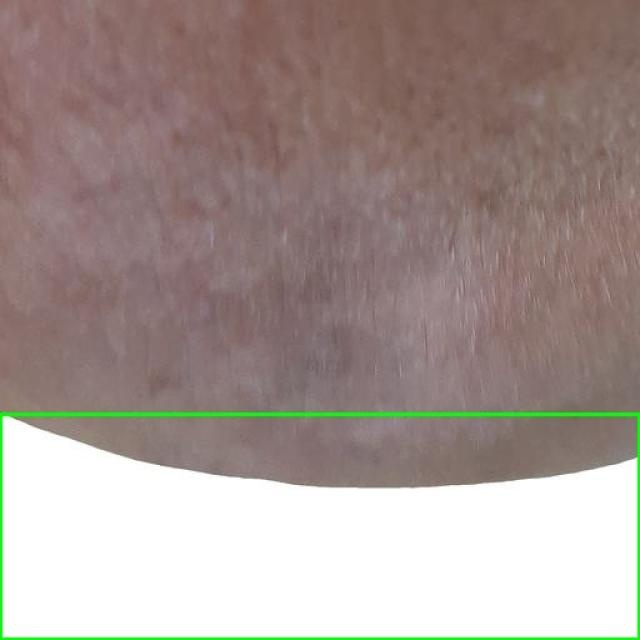Tinea Corporis: (0, 414, 639, 639)
